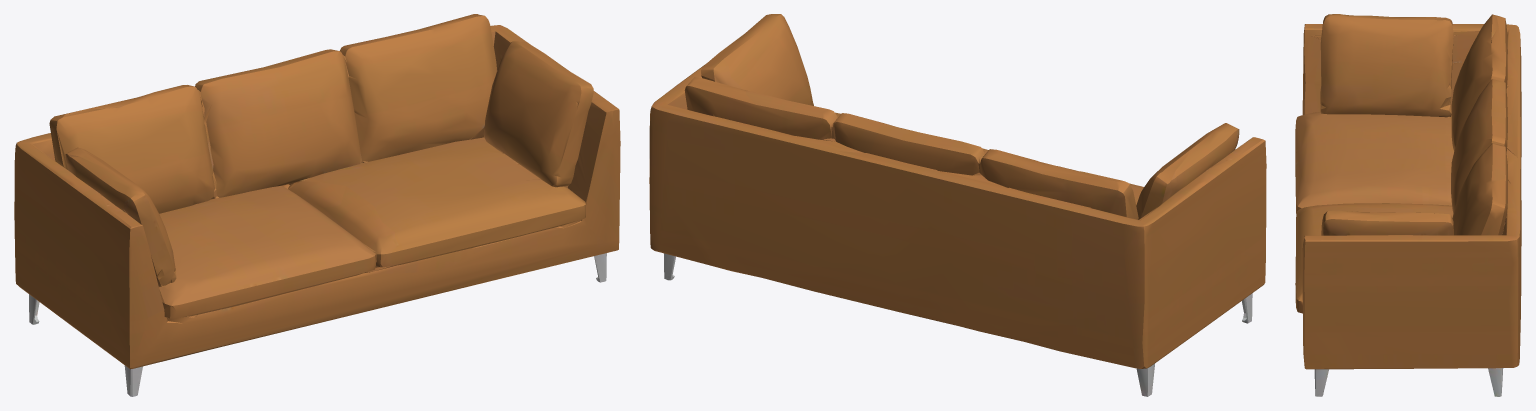
The picture shows the model from 3 angles, left to right: view 1: azimuth 30°, elevation 25°; view 2: azimuth 150°, elevation 25°; view 3: azimuth 270°, elevation 25°; orthographic projection. The views are drawn at different scales.
Visible parts, largest first — view 1: ProcessedMeshNode; view 2: ProcessedMeshNode; view 3: ProcessedMeshNode.
Boxes of the visible parts, <box> form: ProcessedMeshNode: <box>14,14,620,396</box>; ProcessedMeshNode: <box>649,14,1266,396</box>; ProcessedMeshNode: <box>1295,14,1521,396</box>.
Bounding box in the file's own units: 2.14 × 0.8408 × 0.9369.
1 material, 1 textured.
